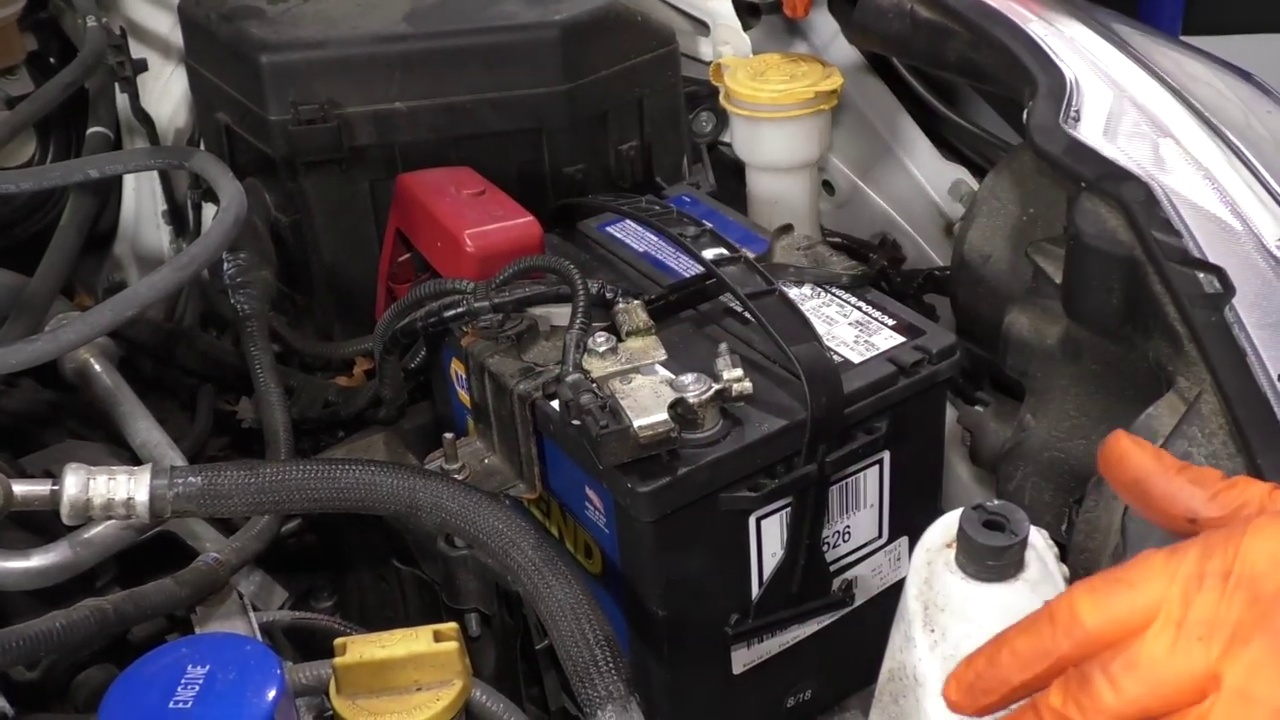battery: (417, 170, 974, 494)
neg_connected: (596, 334, 786, 470)
pos_connected: (364, 156, 571, 321)
